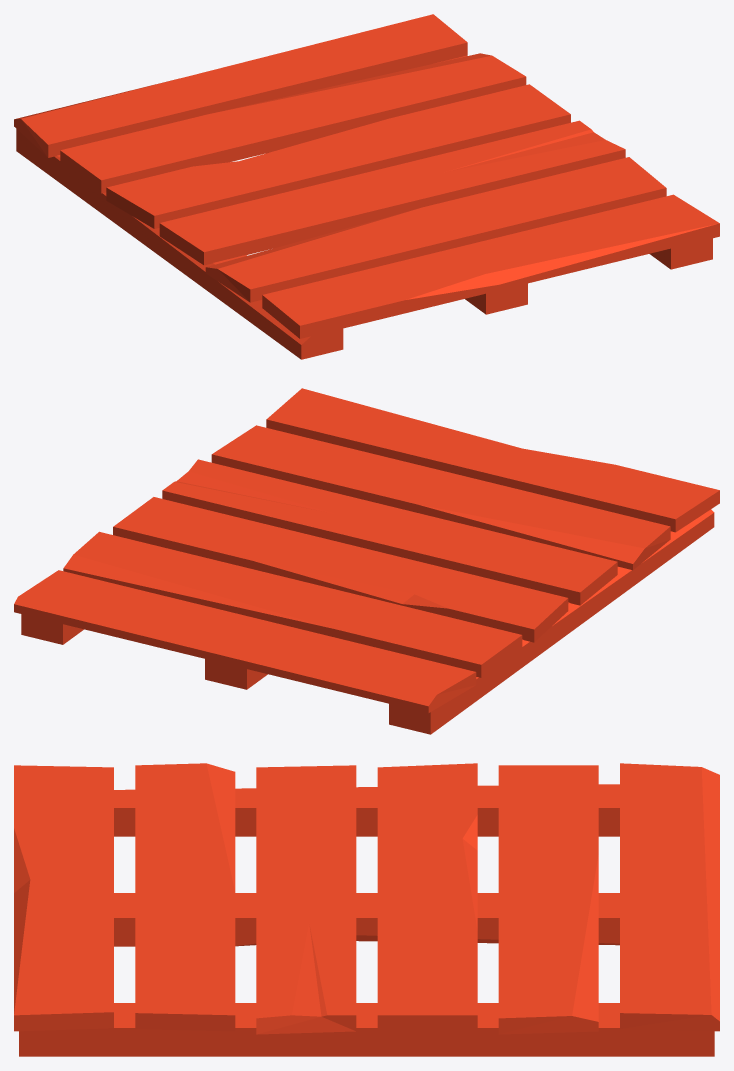
File: SM_Palette_City.fbx
3 renders of one model, top to bottom at view 1: azimuth 30°, elevation 25°; view 2: azimuth 150°, elevation 25°; view 3: azimuth 270°, elevation 25°, orthographic. The views are drawn at different scales.
Visible parts, largest first — view 1: SM_Palette_City; view 2: SM_Palette_City; view 3: SM_Palette_City.
Boxes of the visible parts, box(x1,y1,x2,y2) form: SM_Palette_City: box(14, 14, 719, 359); SM_Palette_City: box(14, 388, 719, 734); SM_Palette_City: box(14, 763, 719, 1056).
Size of the model in its own units: 1.04 by 0.0844 by 1.22.
